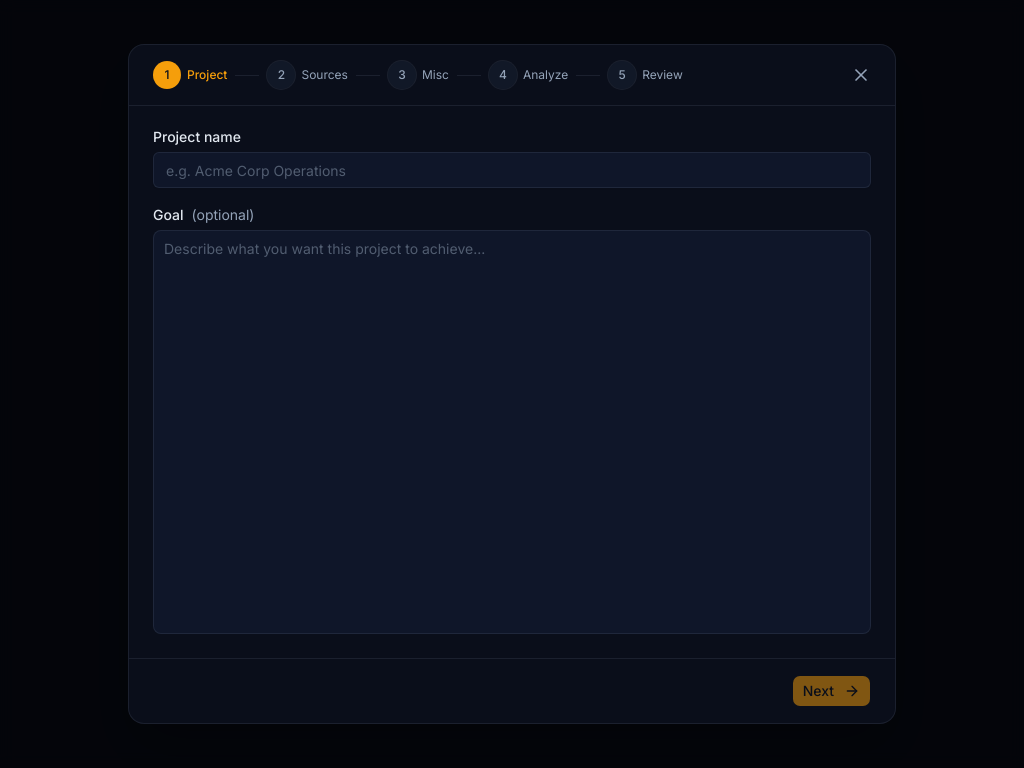
Test: CreateProjectWizard › Step 1 - Project › can enter project name and advance to next step
The width and height of the screenshot is (1024, 768).
Type "My New Project" into the field labelled "Project name".
click(512, 170); type("My New Project")  # box [153,152,871,188]
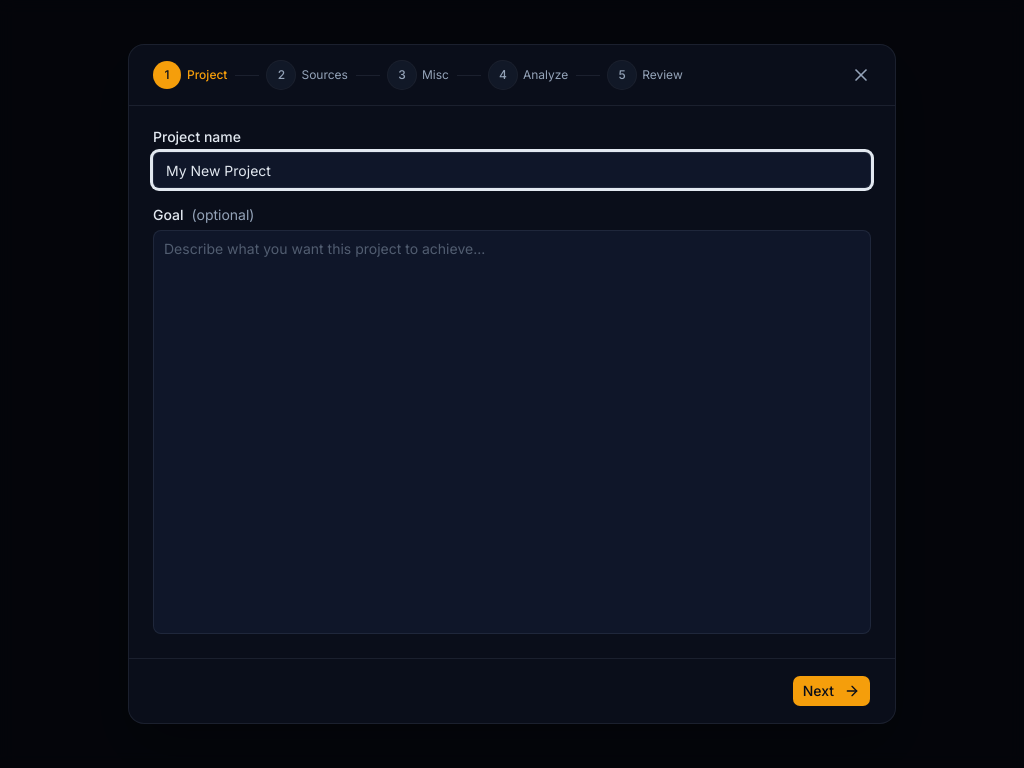
Click the button "Next".
click(831, 691)  # box [792,675,871,707]
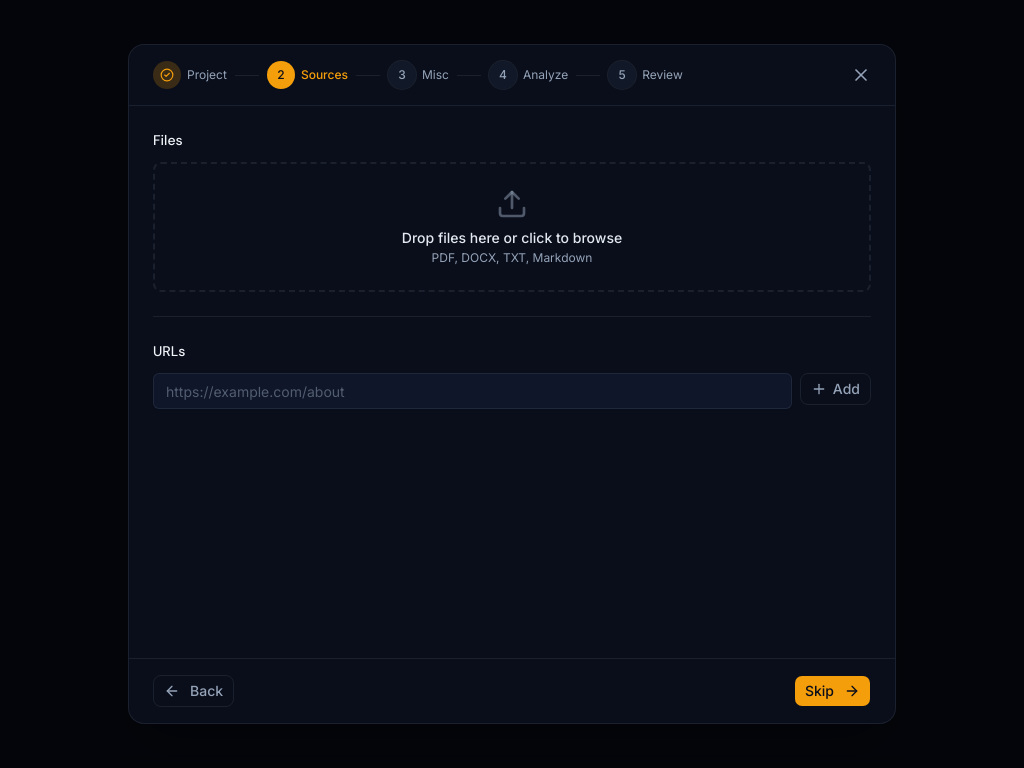
Check: the heading "Files" is shown, box [153,131,183,149]
